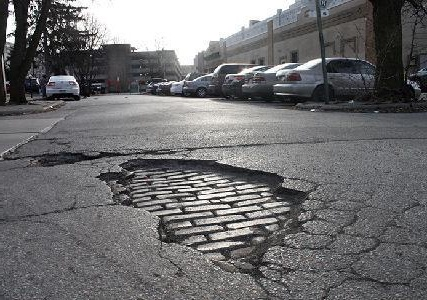pothole: (99, 154, 317, 277), (29, 149, 95, 168)
